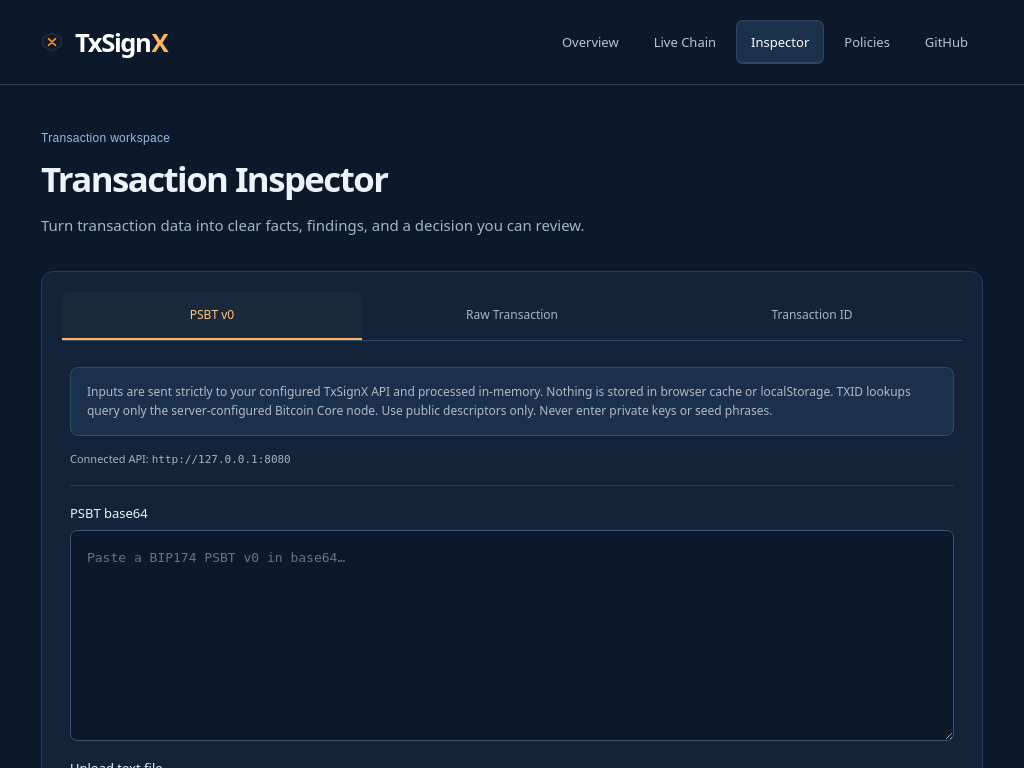
product flows › renders backend REVIEW and separate coverage with actual facts
In the text box labelled "PSBT base64": [512, 636] box [70,530,954,741], type "cHNidP8="
(page scrolled)
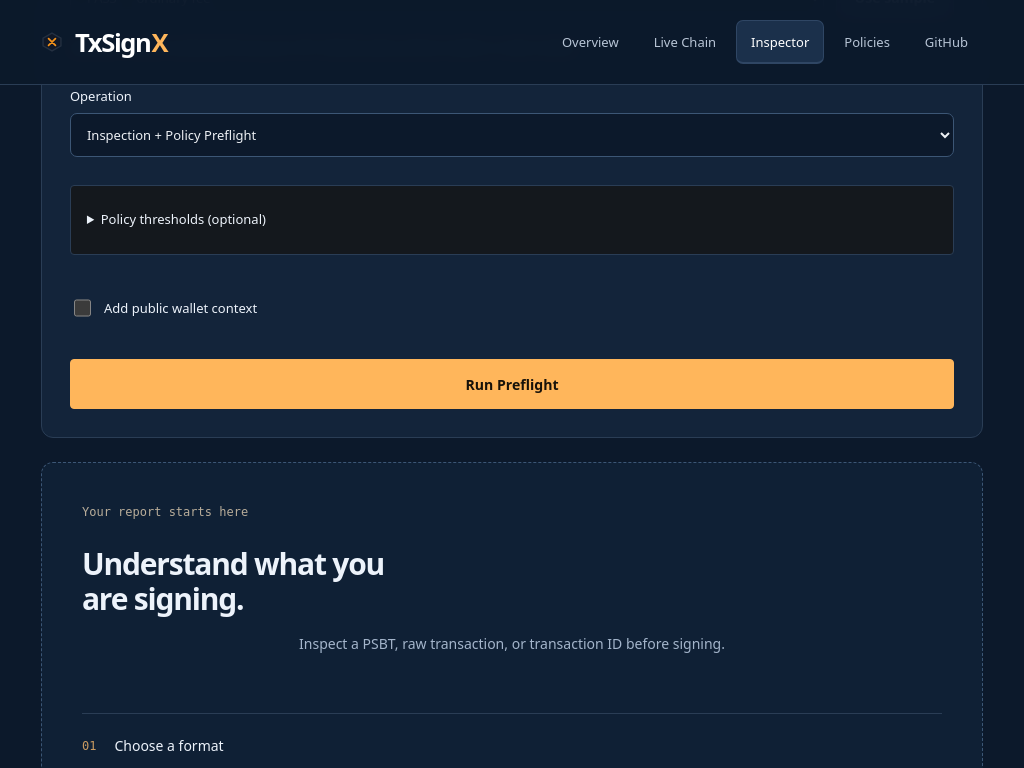
Click the button "Run Preflight": [512, 384] box [70,359,954,409]
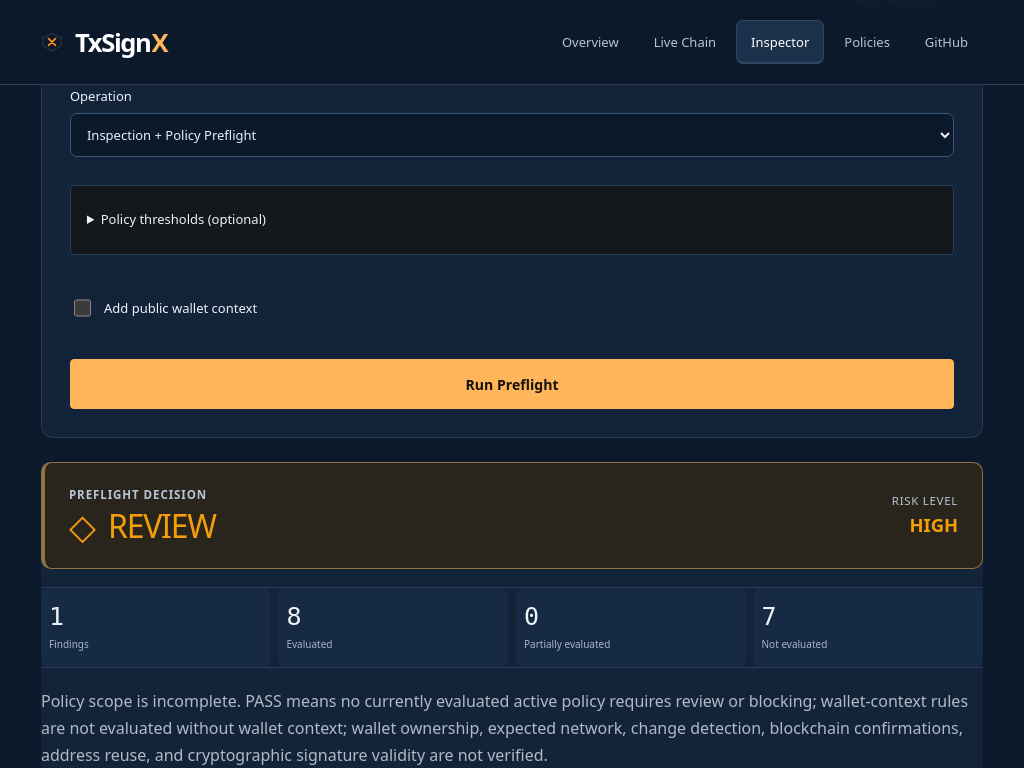
Expected: the heading "REVIEW" is shown, [108,510,216,542]
